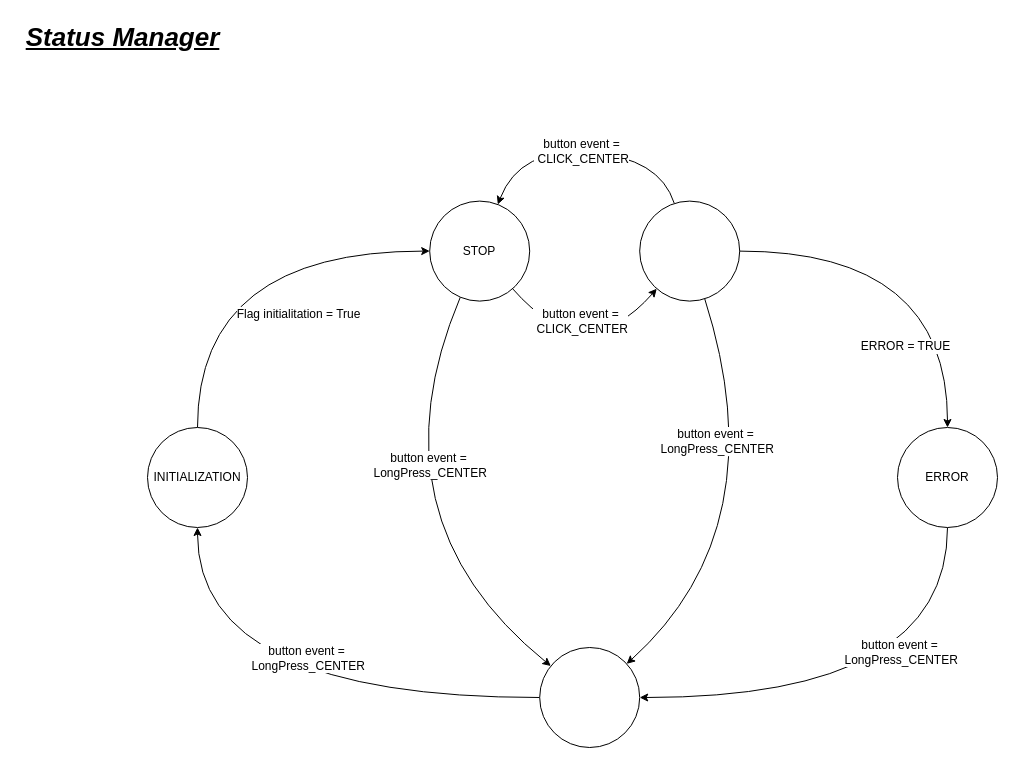
The diagram is 1015 pixels wide and 765 high, and some of its shapes have lost their labels. The centre of each missing label's shape, as x and y in pixels:
RUN: (x=689, y=250)
SLEEP: (x=589, y=697)
